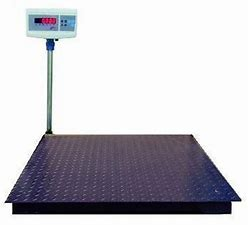Industrial Scale: (3, 8, 241, 215)
